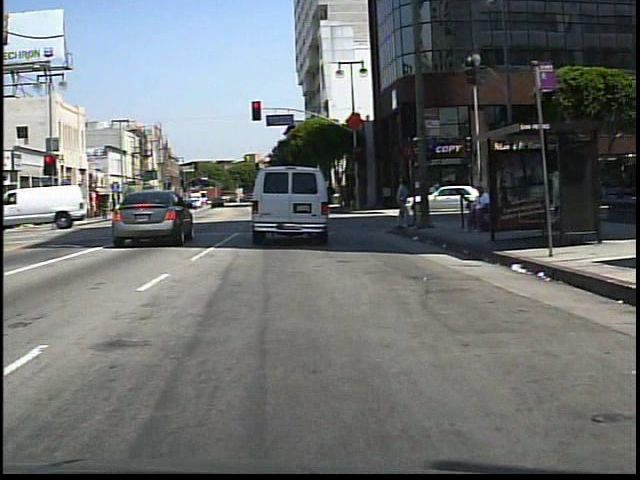person: (389, 175, 416, 234), (466, 184, 495, 236), (112, 193, 127, 219)
